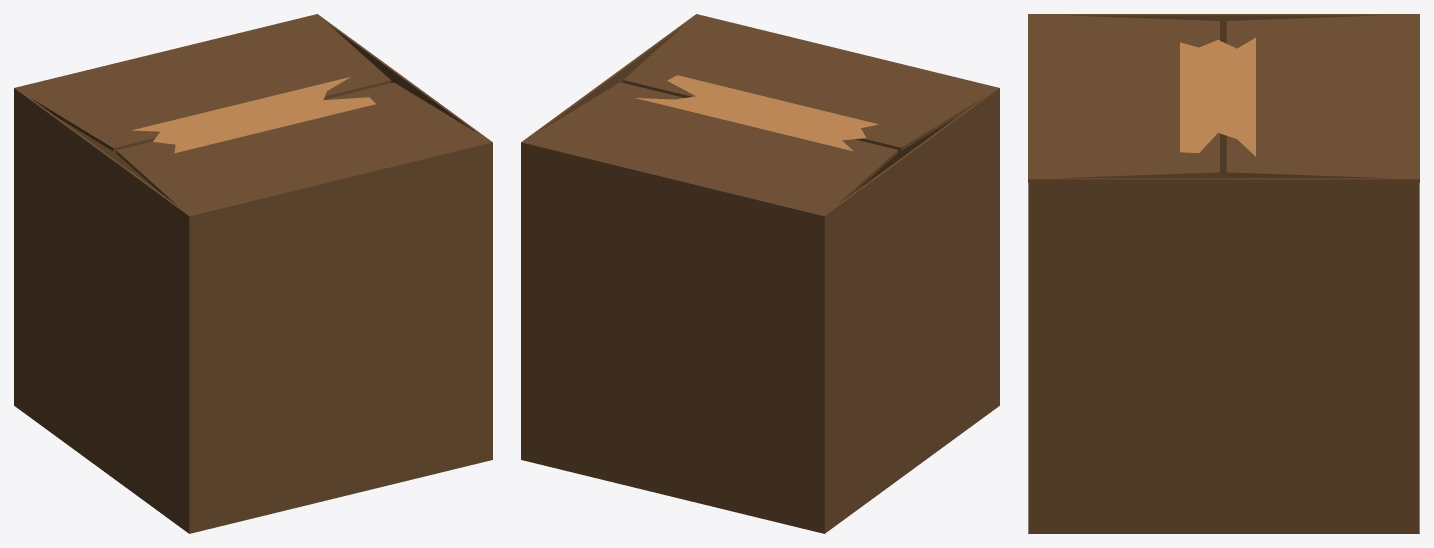
The model's file is caixa.fbx.
3 views of the same model, side by side, from view 1: azimuth 30°, elevation 25°; view 2: azimuth 150°, elevation 25°; view 3: azimuth 270°, elevation 25° (orthographic). The views are drawn at different scales.
Visible parts, largest first — view 1: Cube; view 2: Cube; view 3: Cube.
Boxes of the visible parts, x1,y1,x2,y2 form: Cube: [14, 14, 492, 533]; Cube: [521, 14, 999, 533]; Cube: [1028, 14, 1419, 533].
Size of the model in its own units: 95.06 by 95.22 by 95.15.
